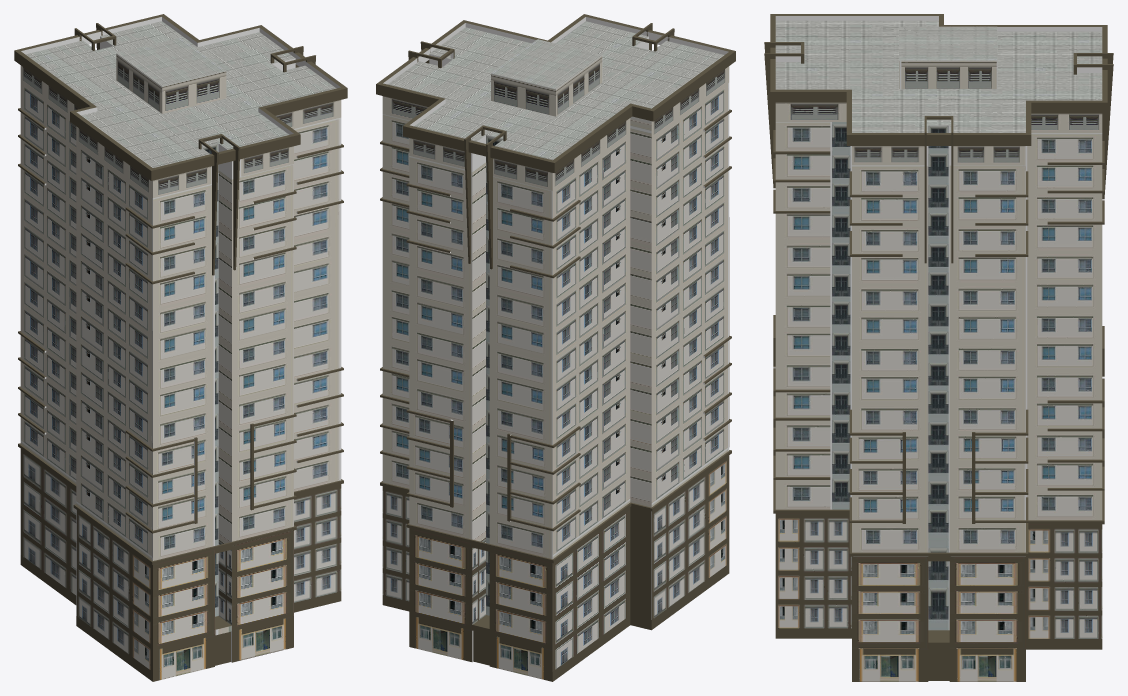
3 views of the same model, side by side, from view 1: azimuth 30°, elevation 25°; view 2: azimuth 150°, elevation 25°; view 3: azimuth 270°, elevation 25° (orthographic). The views are drawn at different scales.
Parts seen in each view (by area): view 1: HN499___Chung_cu_B6B; view 2: HN499___Chung_cu_B6B; view 3: HN499___Chung_cu_B6B.
Boxes of the visible parts, <box> form: HN499___Chung_cu_B6B: <box>14,14,347,681</box>; HN499___Chung_cu_B6B: <box>376,14,735,681</box>; HN499___Chung_cu_B6B: <box>764,14,1113,681</box>.
Size of the model in its own units: 27.76 by 60.01 by 33.13.
Materials: 1 (1 with a texture image).
